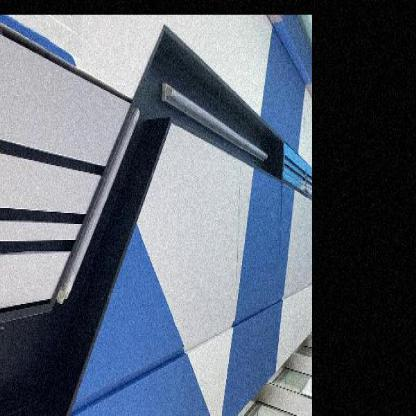light_off: (50, 91, 142, 311), (156, 68, 272, 192)
